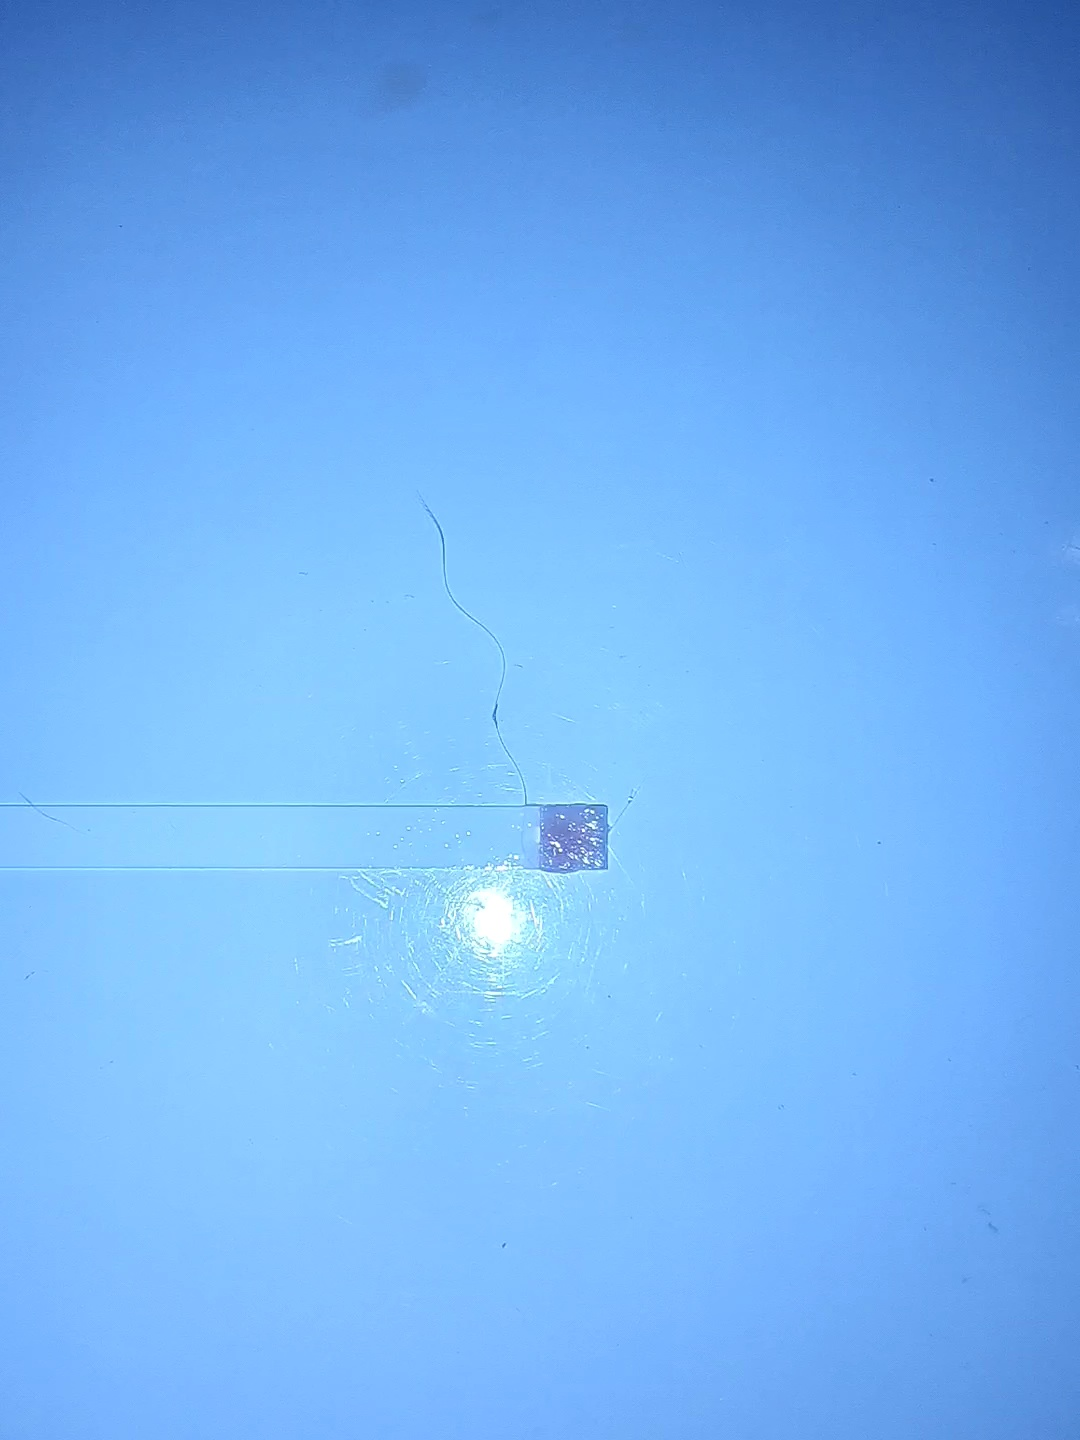keto-tip: (535, 798, 615, 876)
